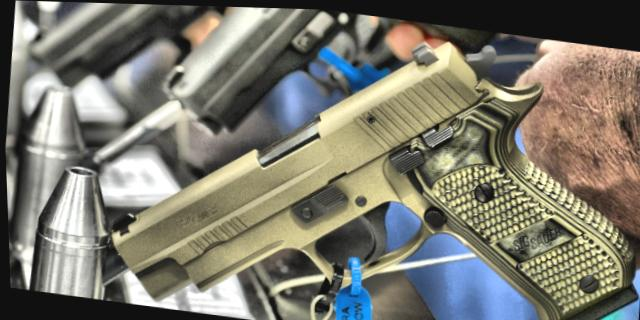pistol: (92, 2, 640, 320)
